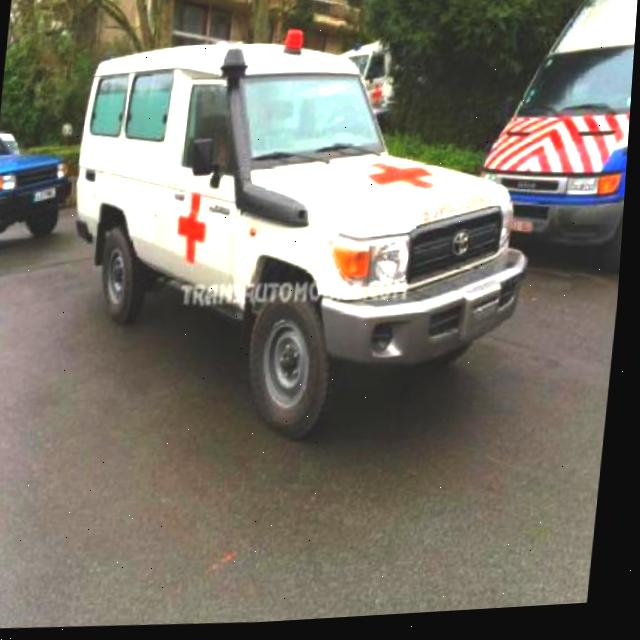emergency: (54, 13, 554, 462)
